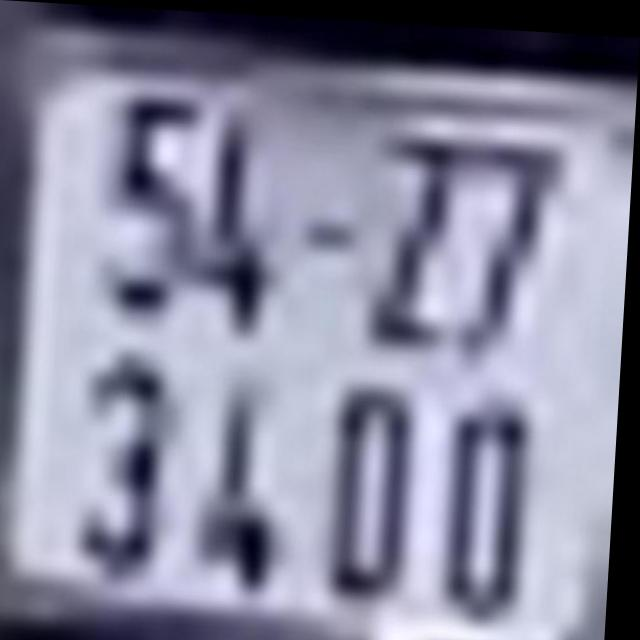0: (445, 386, 534, 612), (334, 370, 412, 598)
3: (82, 346, 173, 588)
4: (203, 368, 288, 595)
5: (112, 87, 199, 313)
7: (463, 126, 564, 360), (201, 109, 292, 341)
Z: (369, 121, 456, 344)
